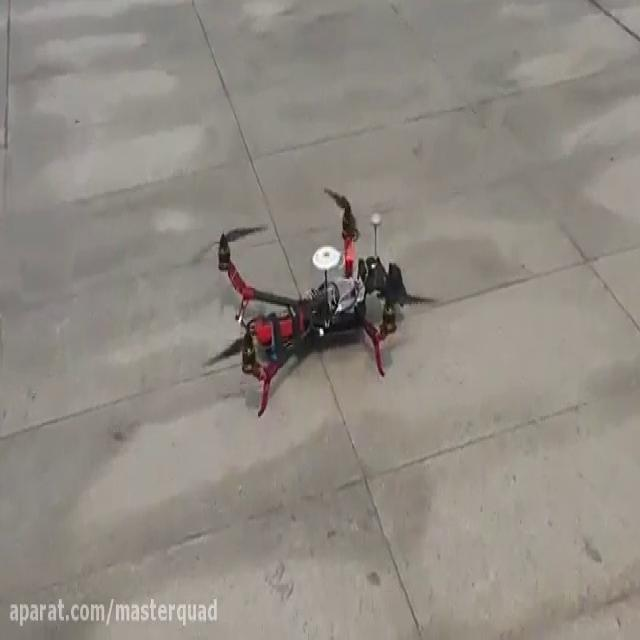drone: (171, 178, 442, 421)
